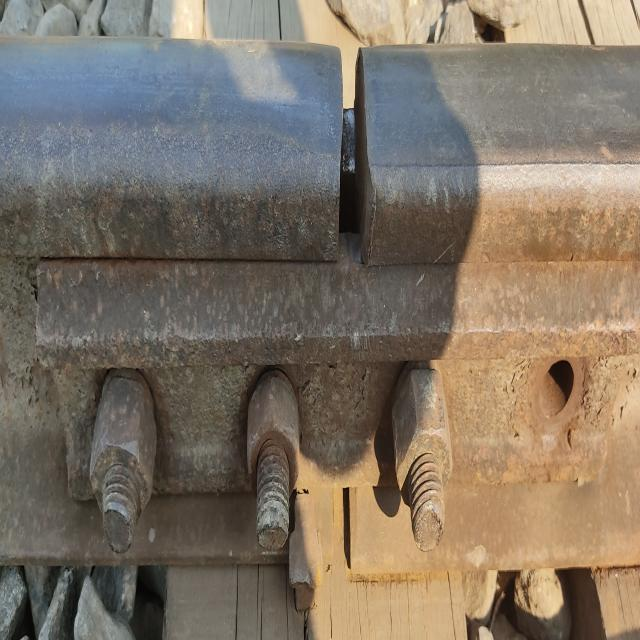railway_join_bar_defects_low: (296, 49, 400, 576)
